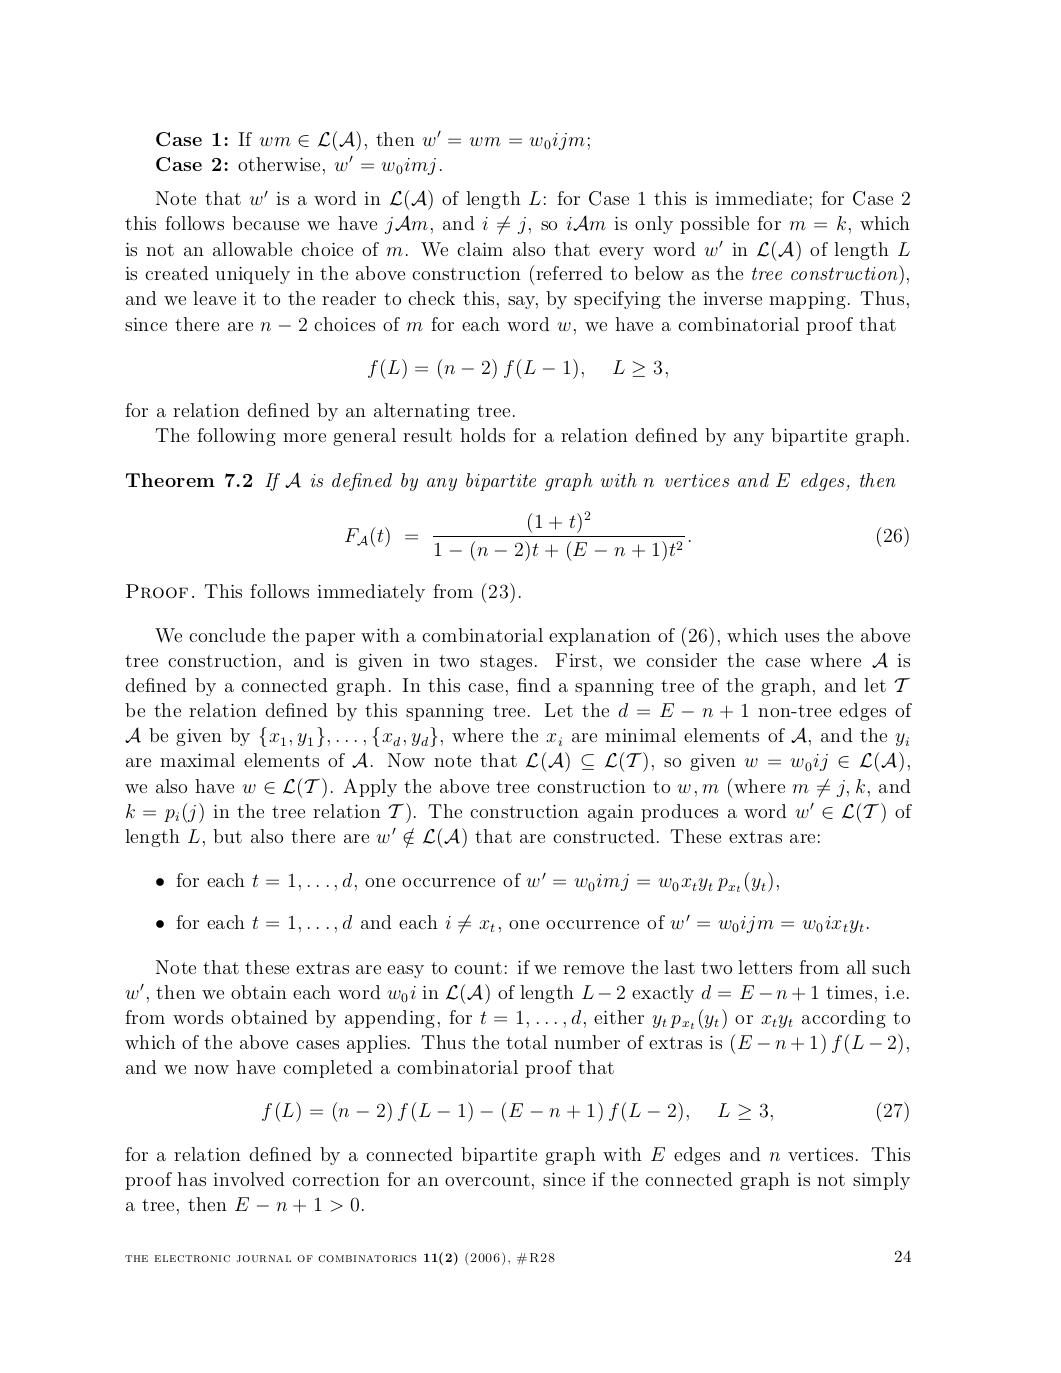formula: (345, 510, 908, 561), (262, 1101, 908, 1122), (368, 358, 666, 379)
